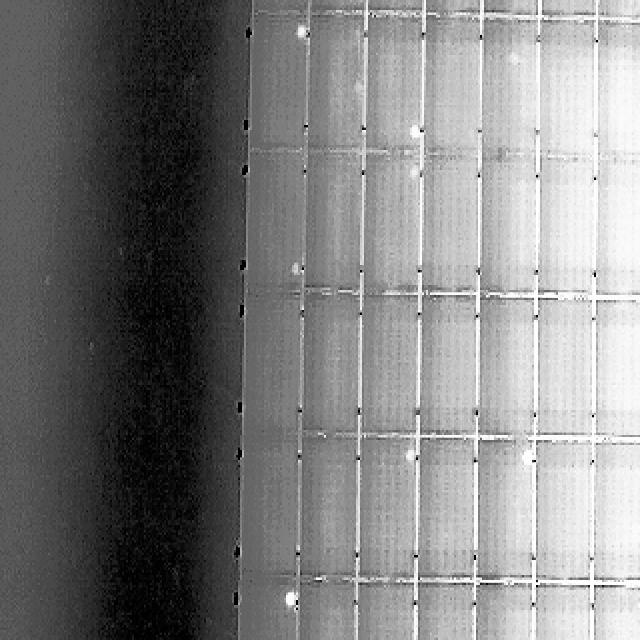Hotspots: (404, 121, 425, 149), (279, 586, 298, 610), (286, 261, 304, 285), (290, 20, 308, 42), (403, 440, 419, 464)
PV-modules: (414, 434, 475, 578), (300, 156, 361, 300), (360, 432, 420, 578), (416, 302, 477, 444), (418, 159, 479, 301), (470, 443, 530, 587), (298, 299, 358, 443), (536, 304, 597, 445), (247, 148, 307, 291), (472, 303, 532, 445), (244, 292, 303, 436), (482, 160, 542, 301), (297, 433, 356, 576), (306, 14, 366, 154), (363, 301, 422, 443), (536, 444, 594, 588), (250, 9, 309, 149), (240, 438, 299, 578), (366, 158, 424, 300), (421, 12, 479, 153), (368, 10, 426, 151), (484, 14, 543, 152), (538, 162, 596, 302), (539, 23, 597, 162), (588, 303, 640, 445), (588, 445, 640, 587), (594, 20, 640, 158), (594, 157, 640, 295), (238, 580, 296, 640), (356, 585, 418, 640), (292, 585, 352, 640), (532, 587, 594, 640), (468, 587, 528, 640), (412, 587, 472, 640), (586, 590, 640, 640), (536, 0, 595, 20), (478, 0, 537, 19), (424, 0, 484, 17), (592, 0, 640, 20), (249, 0, 309, 16), (366, 0, 425, 16), (306, 0, 368, 15)
